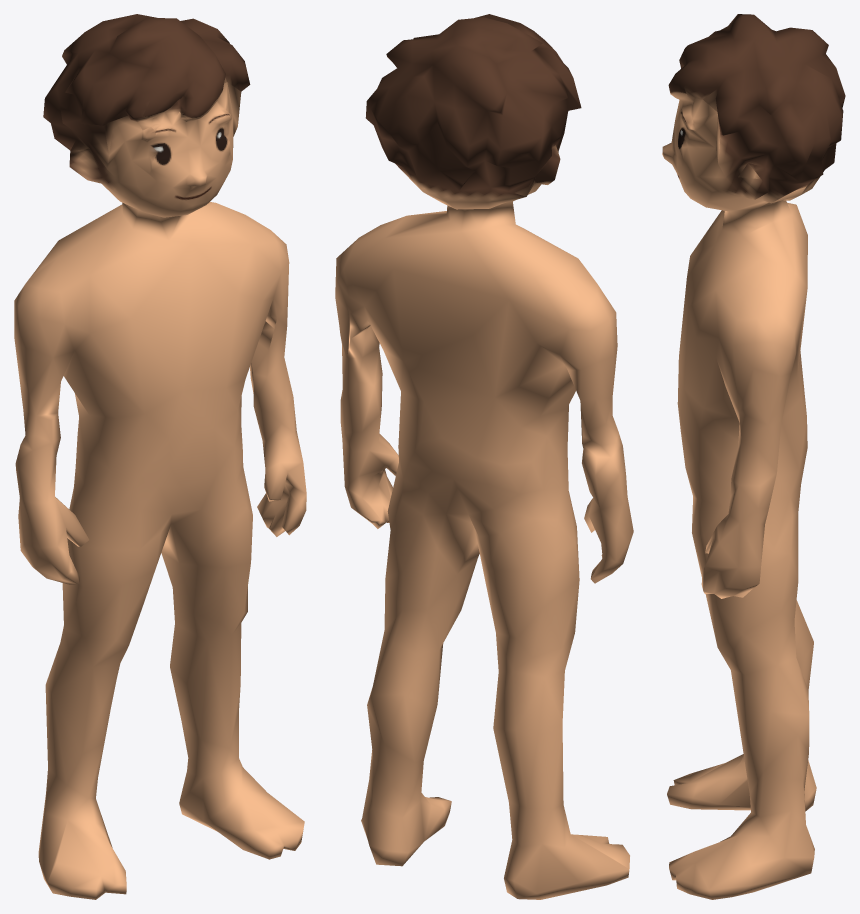
The model's file is npc_bath_standing.glb.
3 views of the same model, side by side, from view 1: azimuth 30°, elevation 25°; view 2: azimuth 150°, elevation 25°; view 3: azimuth 270°, elevation 25° (orthographic). The views are drawn at different scales.
Visible parts, largest first — view 1: npc_bath_standing_body; view 2: npc_bath_standing_body; view 3: npc_bath_standing_body.
Part boxes in pixels (box(x1,y1,x2,y2)): npc_bath_standing_body: box(14, 14, 306, 899); npc_bath_standing_body: box(335, 14, 633, 899); npc_bath_standing_body: box(662, 14, 845, 899).
Size of the model in its own units: 0.5552 by 1.6 by 0.3249.
Materials: 1 (1 with a texture image).
